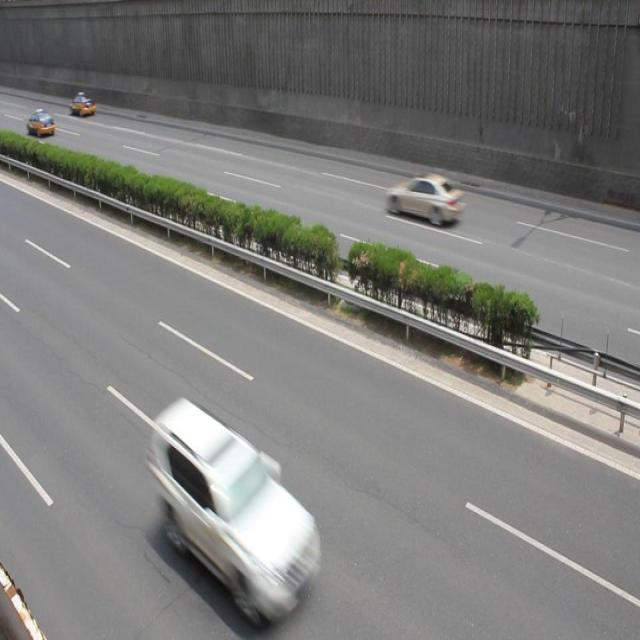car: (150, 398, 327, 600), (385, 173, 465, 225), (28, 108, 56, 137), (70, 91, 96, 118)
